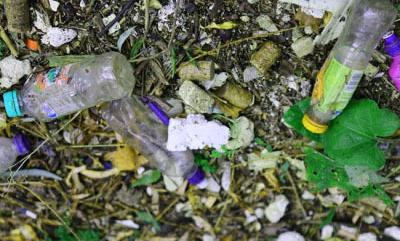Plastic: (301, 0, 400, 136), (2, 51, 140, 129), (96, 93, 205, 186), (0, 133, 32, 180)
